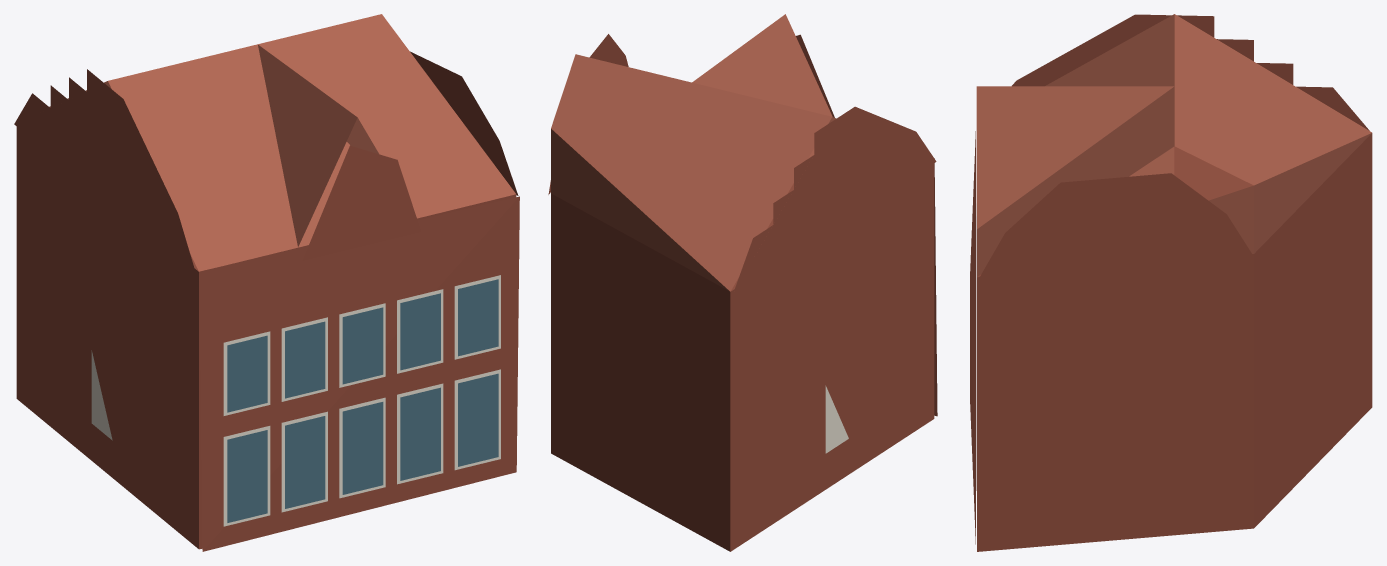
Rendered from huis-aan-drie-grachten.lod2.glb.
The picture shows the model from 3 angles, left to right: view 1: azimuth 30°, elevation 25°; view 2: azimuth 150°, elevation 25°; view 3: azimuth 270°, elevation 25°; orthographic projection. The views are drawn at different scales.
Visible parts, largest first — view 1: lod2; view 2: lod2; view 3: lod2.
Boxes of the visible parts, <box> form: lod2: <box>14,14,519,551</box>; lod2: <box>548,14,937,551</box>; lod2: <box>970,14,1372,551</box>.
Size of the model in its own units: 13.12 by 15.3 by 14.47.
